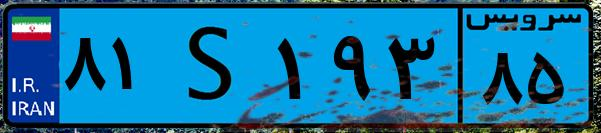1: (270, 28, 330, 110), (110, 28, 158, 98)
3: (385, 28, 445, 110)
5: (525, 38, 570, 115)
8: (57, 26, 110, 100), (475, 38, 525, 113)
9: (330, 28, 385, 110)
S: (158, 12, 270, 120)
